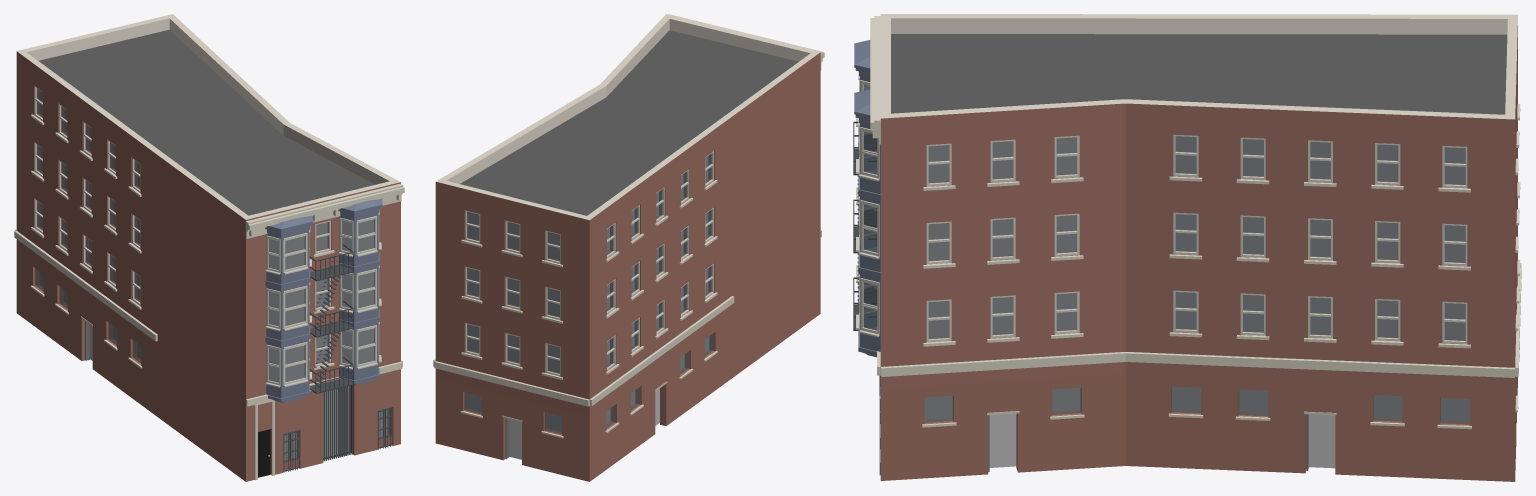
Rendered from exterior.glb.
3 views of the same model, side by side, from view 1: azimuth 30°, elevation 25°; view 2: azimuth 150°, elevation 25°; view 3: azimuth 270°, elevation 25° (orthographic). The views are drawn at different scales.
Visible parts, largest first — view 1: shell, roof, bay-glazing-hyb, shadow-proxy, bay-windows-hyb, trim, storefront, glazing, frames, fire-escape; view 2: shell, roof, glazing, trim, shadow-proxy, frames; view 3: shell, roof, shadow-proxy, glazing, trim, frames, bay-windows-hyb, bay-glazing-hyb, fire-escape.
Part boxes in pixels (x1,y1,x2,y2): shell: (16,14,400,481); roof: (38,29,374,215); bay-glazing-hyb: (265,209,381,387); shadow-proxy: (39,91,387,459); bay-windows-hyb: (265,198,382,402); trim: (14,114,404,406); storefront: (81,316,393,480); glazing: (35,88,389,460); frames: (34,86,330,366); fire-escape: (309,245,353,393); shell: (435,14,820,481); roof: (460,30,798,215); glazing: (464,153,712,434); trim: (433,14,824,438); shadow-proxy: (467,156,708,459); frames: (465,151,713,376); shell: (880,14,1517,481); roof: (891,34,1507,114); shadow-proxy: (925,136,1469,468); glazing: (924,136,1469,424); trim: (870,16,1521,429); frames: (926,134,1467,343); bay-windows-hyb: (854,40,880,357); bay-glazing-hyb: (856,71,879,337); fire-escape: (853,121,876,330).
Bounding box in the file's own units: 8.6 × 13.41 × 22.41.
